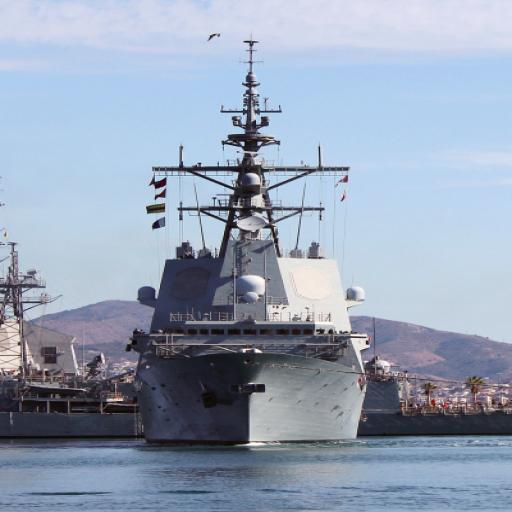Fragata: (132, 29, 365, 454)
